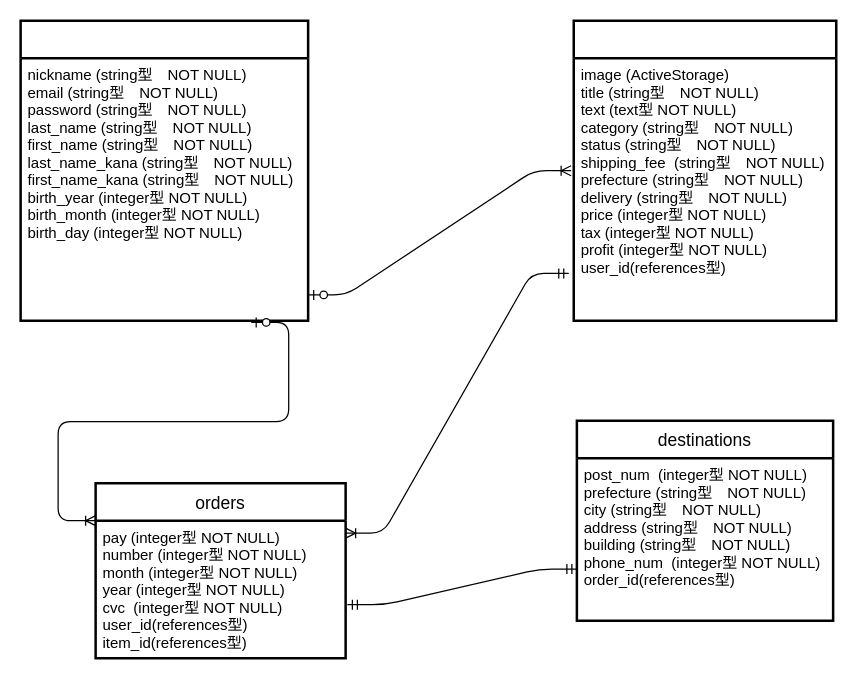
Some shapes in this 856 by 679 pixel diagram are drawn without their labels. The shapes that lost their labels are listed below. From the top down, each one's box as (x1, y1, x2, y2) in pixels, then its label:
(19, 19, 309, 321): Users
(572, 19, 837, 321): Items
